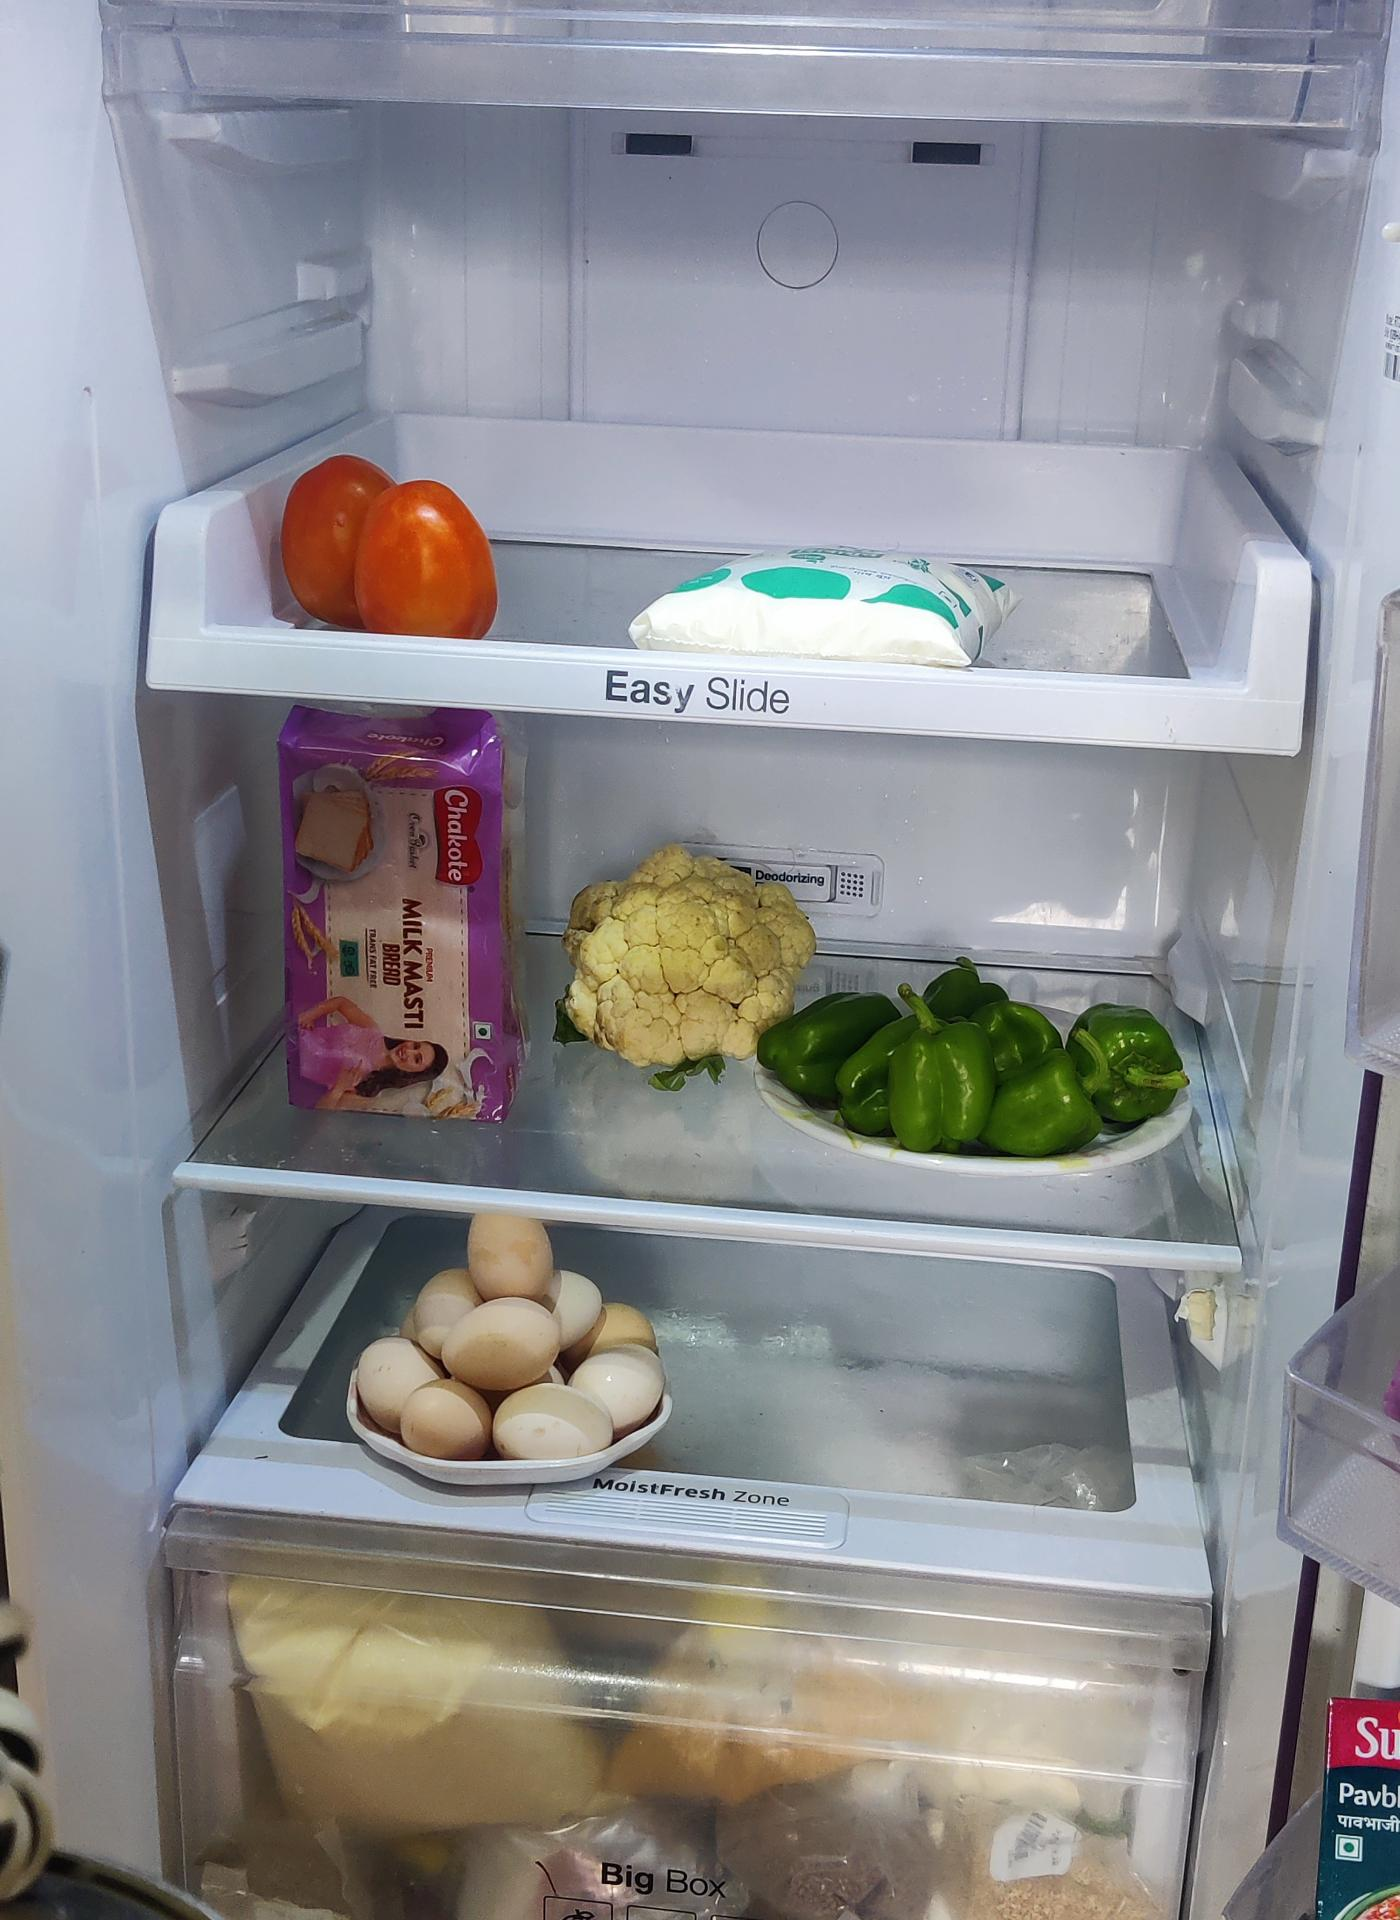bread: (282, 713, 537, 1125)
capsicum: (757, 964, 1191, 1155)
cauliflower: (558, 853, 814, 1073)
egg: (341, 1207, 658, 1467)
milk: (628, 552, 1017, 668)
tomato: (285, 459, 507, 647)
